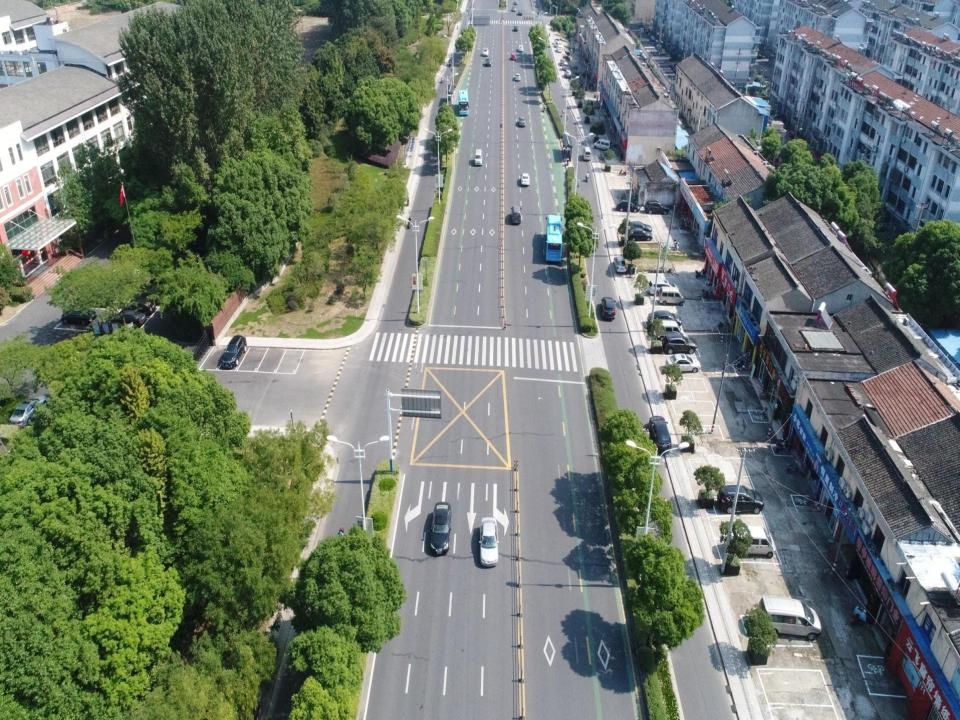bus: (545, 214, 562, 262), (458, 88, 469, 116)
car: (716, 483, 764, 514), (8, 393, 48, 427), (429, 501, 451, 556), (478, 516, 500, 568), (219, 334, 247, 369), (648, 415, 672, 453), (664, 353, 701, 373), (662, 333, 697, 354), (110, 310, 146, 330), (60, 307, 97, 326), (648, 310, 682, 327), (125, 297, 156, 315), (169, 250, 200, 266), (648, 279, 678, 295), (627, 226, 653, 241), (600, 296, 616, 320), (644, 199, 668, 215), (614, 198, 640, 212), (628, 220, 652, 234), (510, 205, 523, 226), (614, 254, 626, 272), (520, 172, 530, 187), (518, 115, 526, 127), (484, 58, 492, 66), (514, 72, 521, 81), (564, 70, 571, 78), (483, 47, 489, 56), (553, 42, 562, 48), (559, 59, 566, 66), (511, 52, 517, 60), (556, 45, 562, 53), (517, 10, 523, 16), (513, 24, 518, 31), (518, 46, 523, 52), (554, 38, 559, 44), (512, 5, 516, 12), (515, 0, 518, 5)
van: (758, 596, 822, 640), (730, 524, 774, 558), (657, 285, 685, 306), (660, 320, 682, 338), (593, 138, 611, 151), (474, 148, 484, 167), (582, 146, 591, 161), (562, 61, 568, 71)
